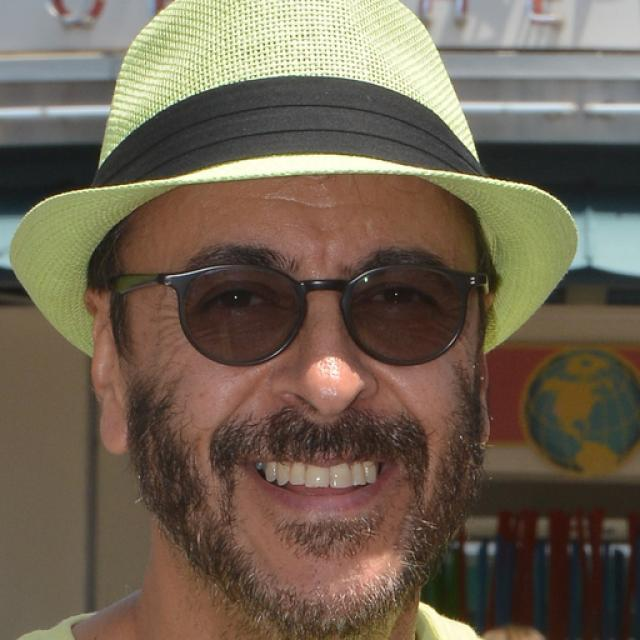happy: (124, 148, 478, 624)
